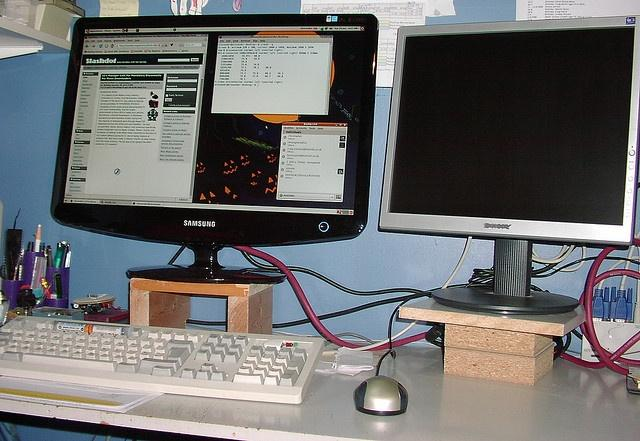AIO PC-Monitor-TV: (48, 11, 380, 249), (376, 13, 639, 247)
